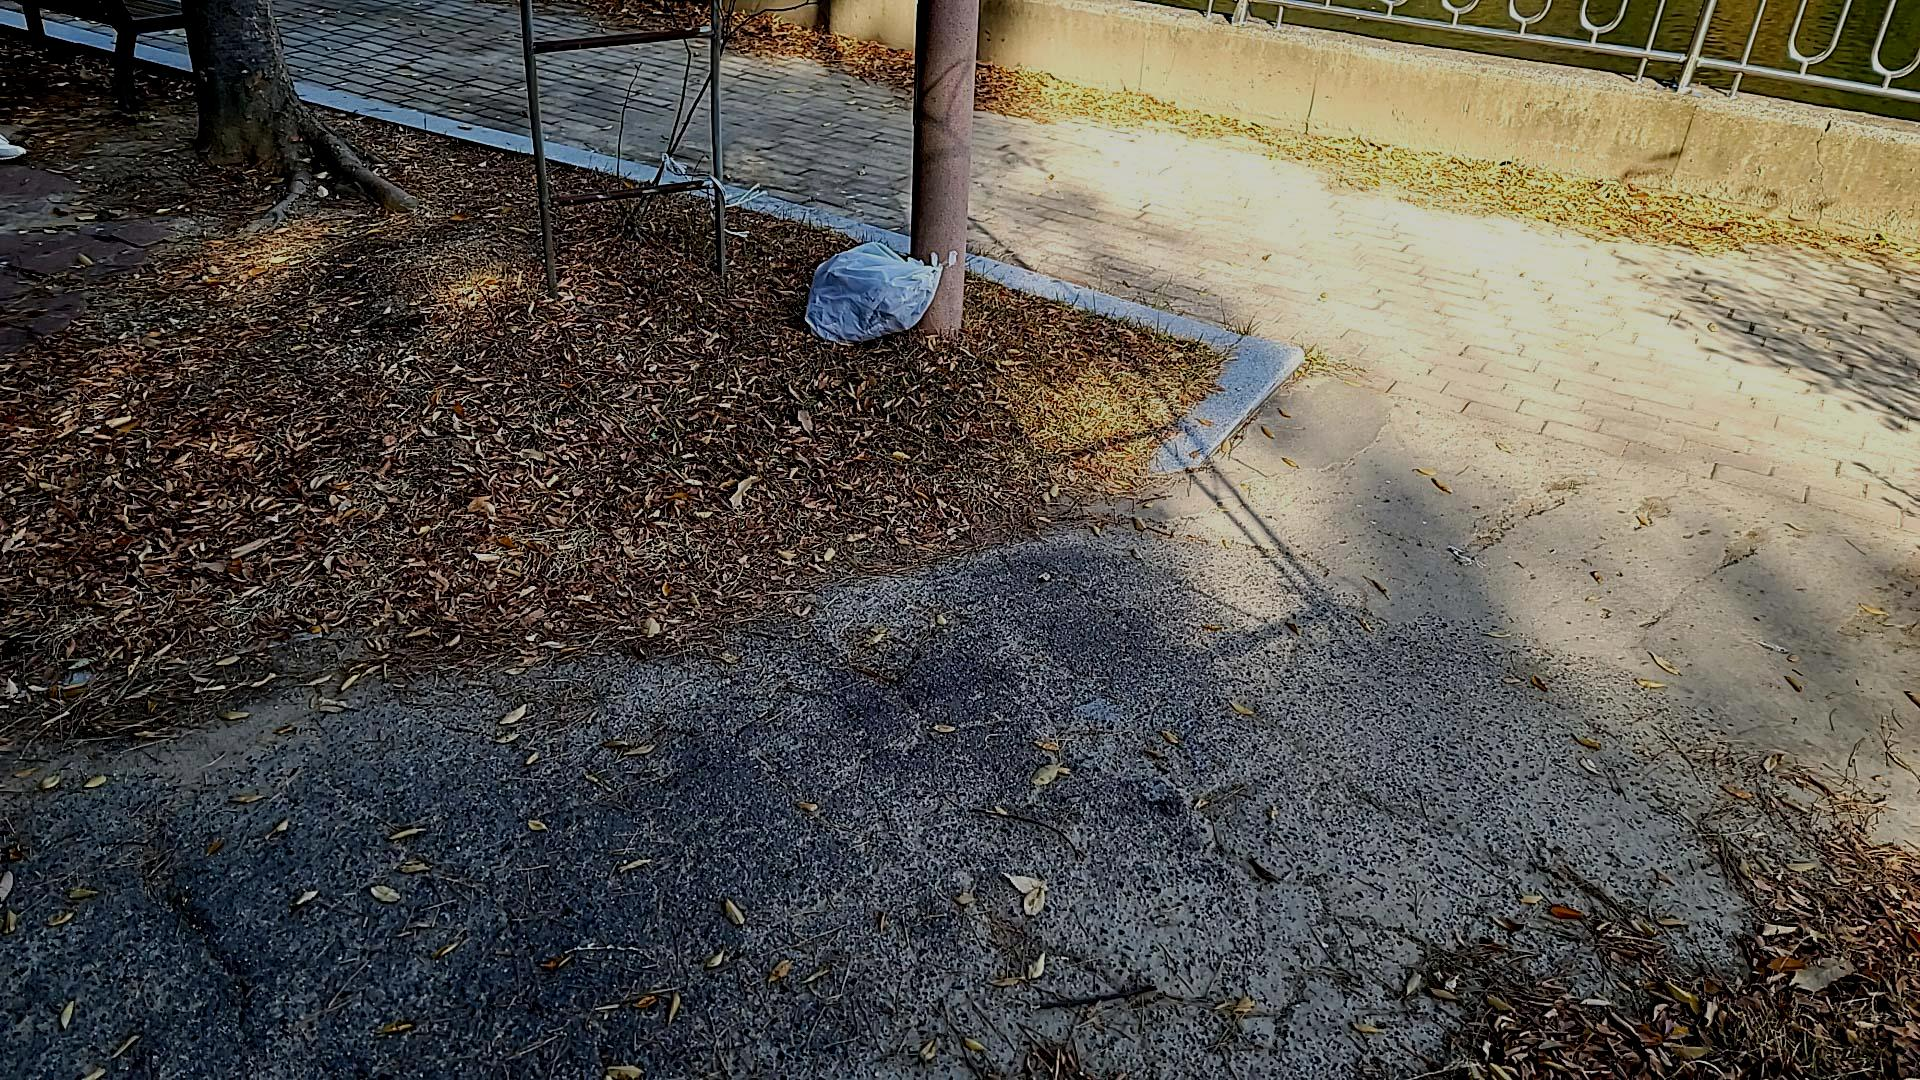white_bag: (797, 230, 952, 367)
